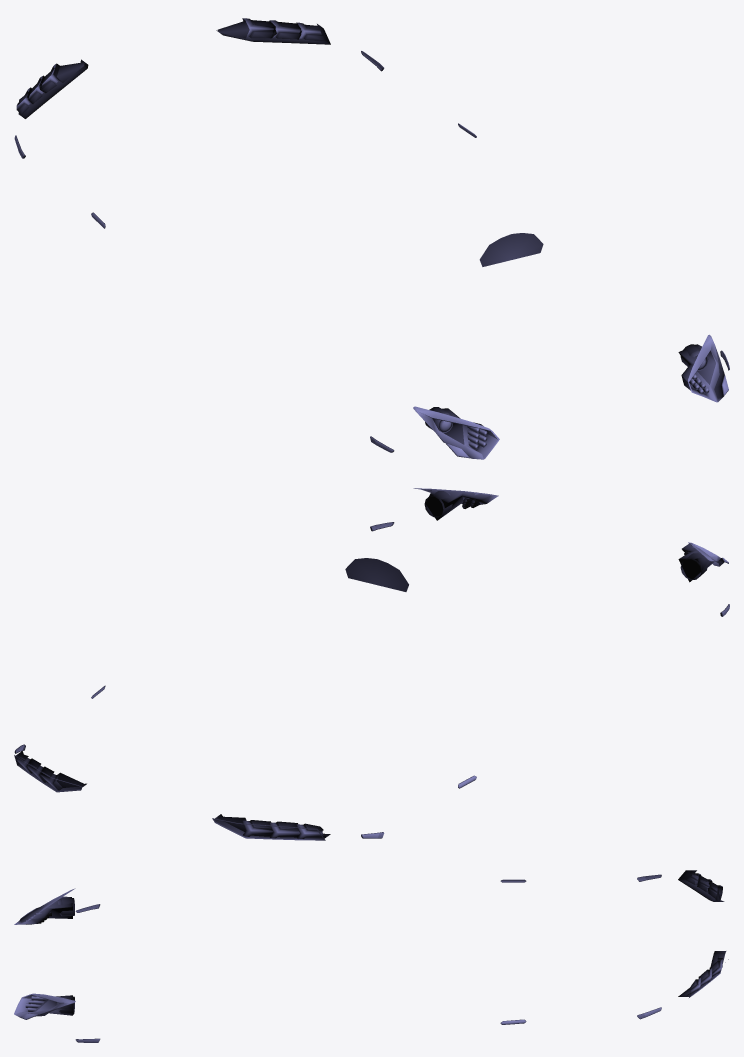
Rendered from Aventador_Chassis_Detail.fbx.
3 renders of one model, top to bottom at view 1: azimuth 30°, elevation 25°; view 2: azimuth 150°, elevation 25°; view 3: azimuth 270°, elevation 25°, orthographic. The views are drawn at different scales.
Visible parts, largest first — view 1: Aventador_Chassis_Detail; view 2: Aventador_Chassis_Detail; view 3: Aventador_Chassis_Detail.
Boxes of the visible parts, <box> form: Aventador_Chassis_Detail: <box>14,18,729,459</box>; Aventador_Chassis_Detail: <box>14,488,729,840</box>; Aventador_Chassis_Detail: <box>14,870,728,1042</box>.
Bounding box in the file's own units: 208 × 40.79 × 440.
